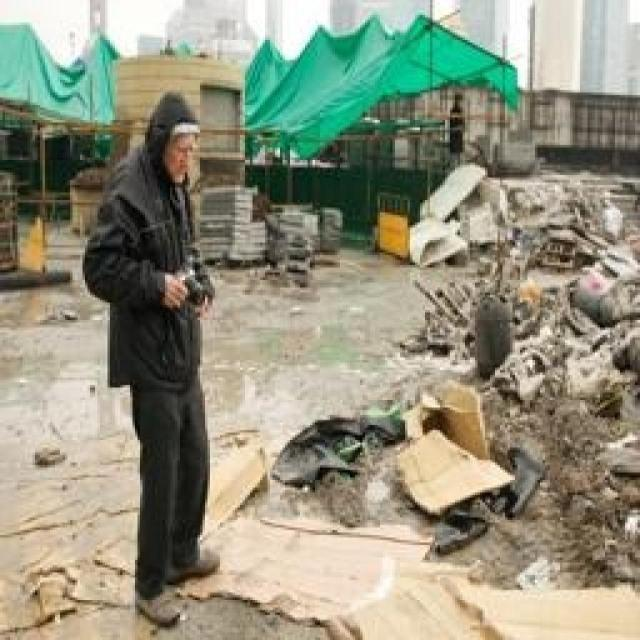Helmet: (72, 154, 220, 428), (137, 76, 217, 210)
